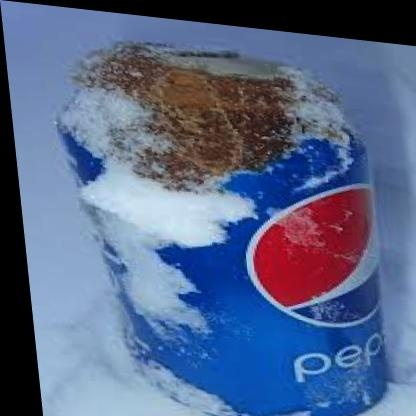trash: (57, 42, 384, 415)
